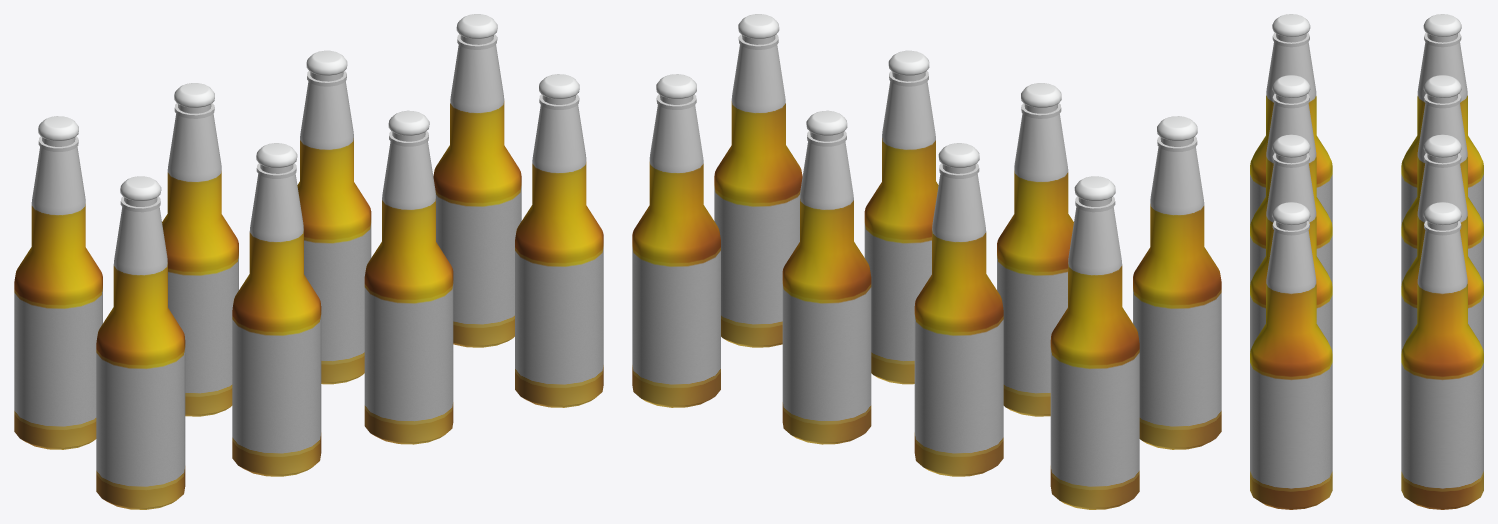
Rendered from Bottles01_3.FBX.
The picture shows the model from 3 angles, left to right: view 1: azimuth 30°, elevation 25°; view 2: azimuth 150°, elevation 25°; view 3: azimuth 270°, elevation 25°; orthographic projection. The views are drawn at different scales.
Visible parts, largest first — view 1: Bottles01_3; view 2: Bottles01_3; view 3: Bottles01_3.
Boxes of the visible parts, bbox=[...] form: Bottles01_3: bbox=[14, 14, 603, 509]; Bottles01_3: bbox=[632, 14, 1221, 509]; Bottles01_3: bbox=[1250, 14, 1483, 509].
Size of the model in its own units: 43.26 by 25.96 by 19.16.
